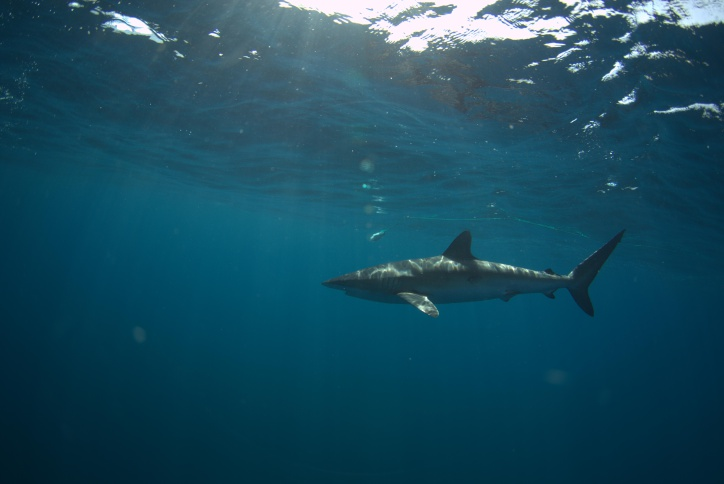Sedoso: (318, 222, 628, 329)
